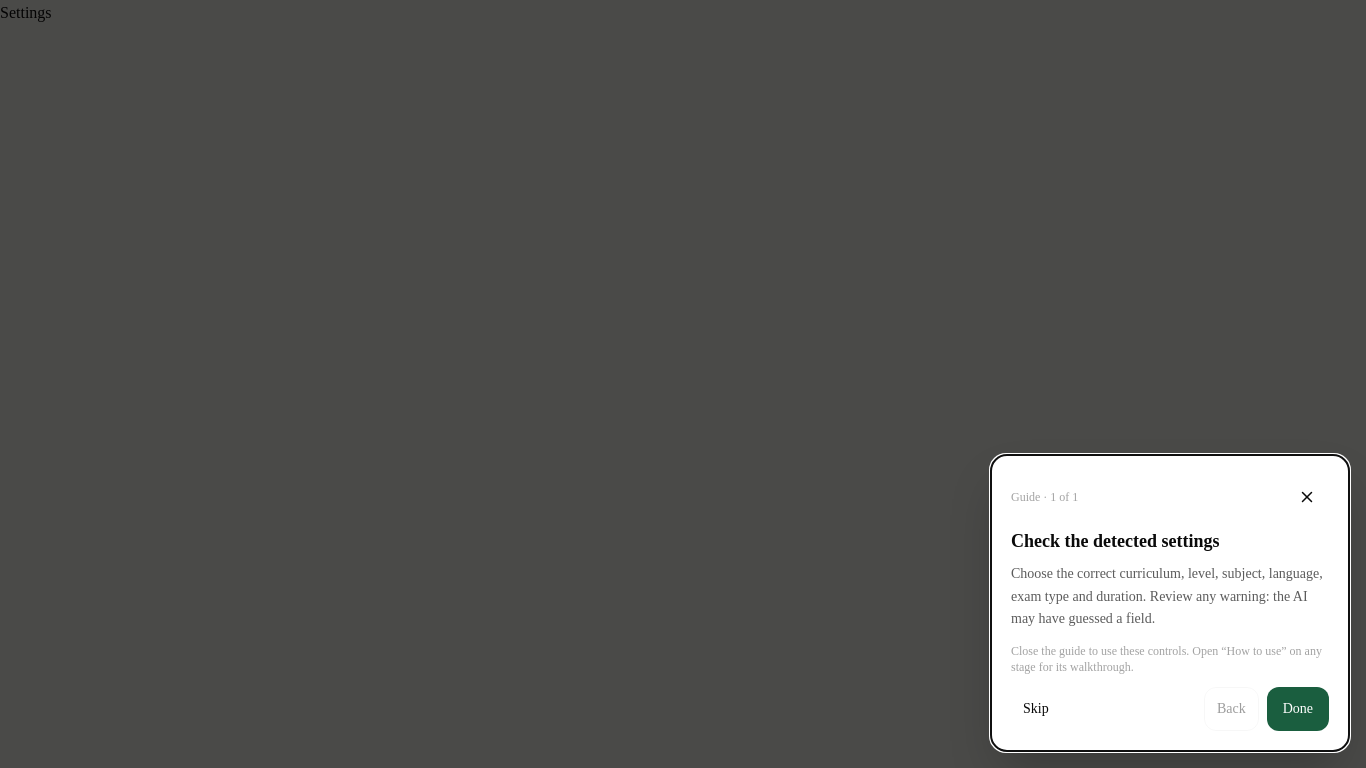
Test case: generator guide › waits for controls to appear before introducing a stage
Expected: the dialog shows "Check the detected settings", [1011, 531, 1220, 551]
Click the button "Skip".
click(1036, 709)  # box [1011, 687, 1061, 731]
Wait 2000 ms
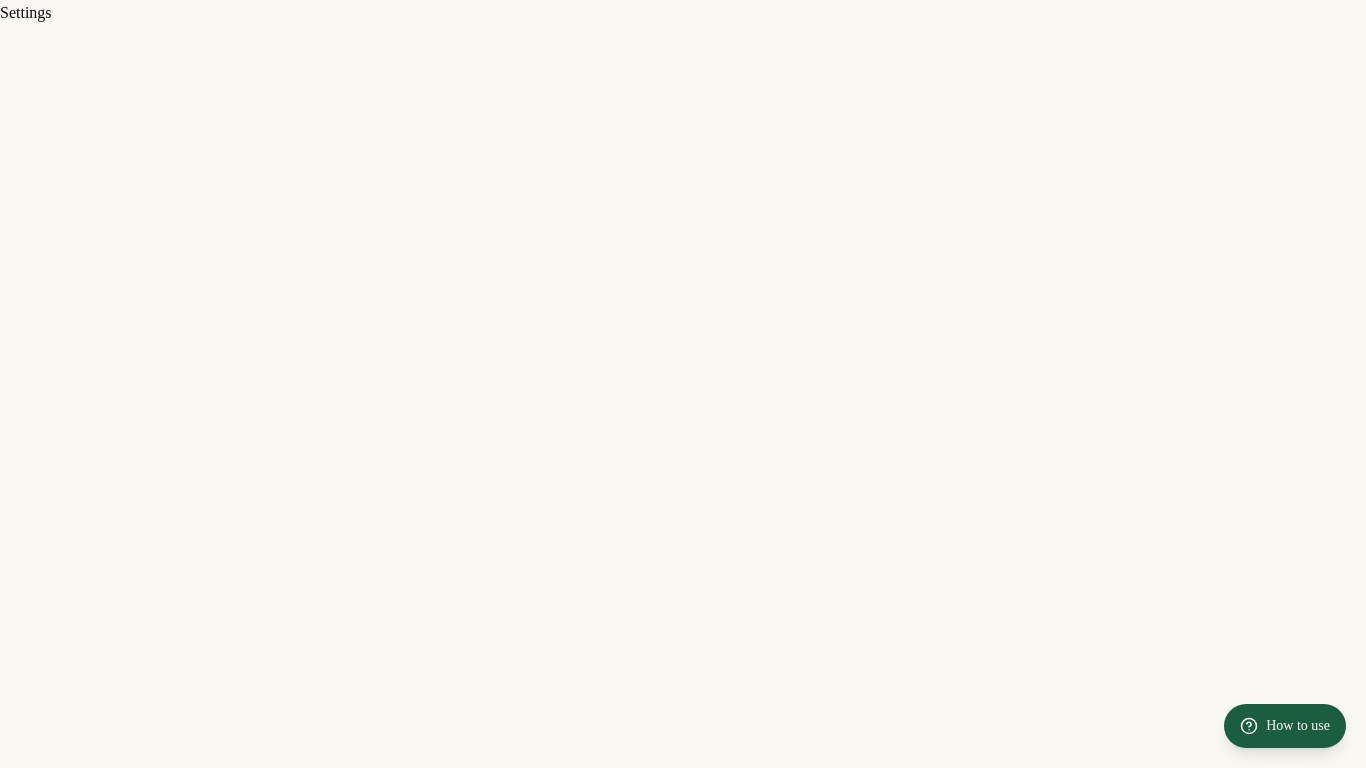
Expected: the dialog is gone
